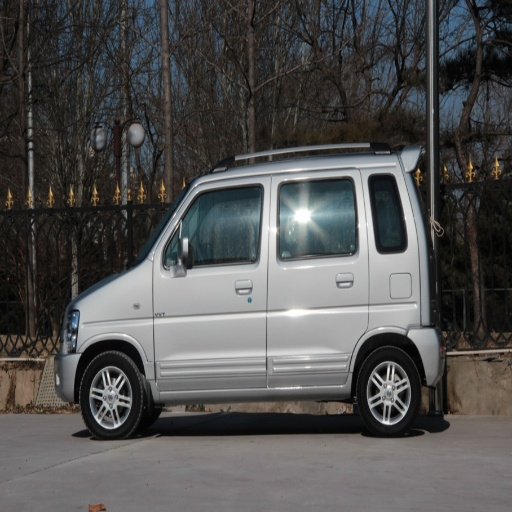front_left_door: (154, 176, 271, 390)
